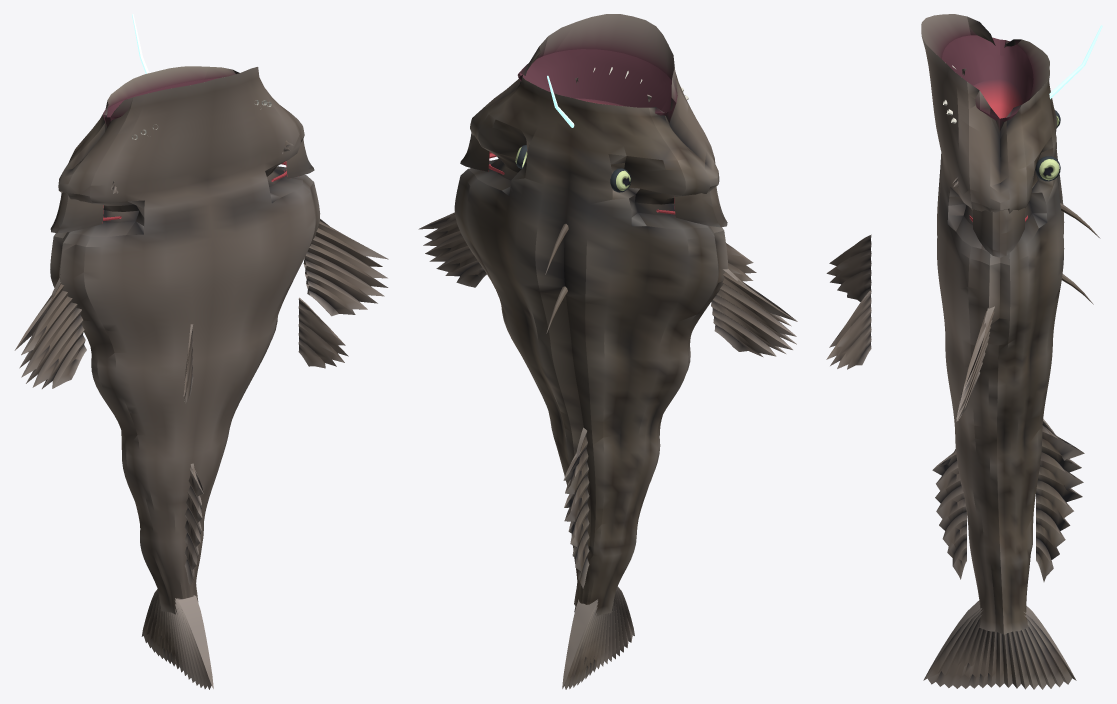
File: fish_monkfish.glb
The picture shows the model from 3 angles, left to right: view 1: azimuth 30°, elevation 25°; view 2: azimuth 150°, elevation 25°; view 3: azimuth 270°, elevation 25°; orthographic projection. The views are drawn at different scales.
Visible parts, largest first — view 1: Fish_monkfish; view 2: Fish_monkfish; view 3: Fish_monkfish.
Boxes of the visible parts, left/top/right/bottom form: Fish_monkfish: left=14, top=14, right=388, bottom=689; Fish_monkfish: left=418, top=14, right=797, bottom=689; Fish_monkfish: left=826, top=14, right=1102, bottom=689.
Size of the model in its own units: 0.7496 by 1.19 by 0.4475.
